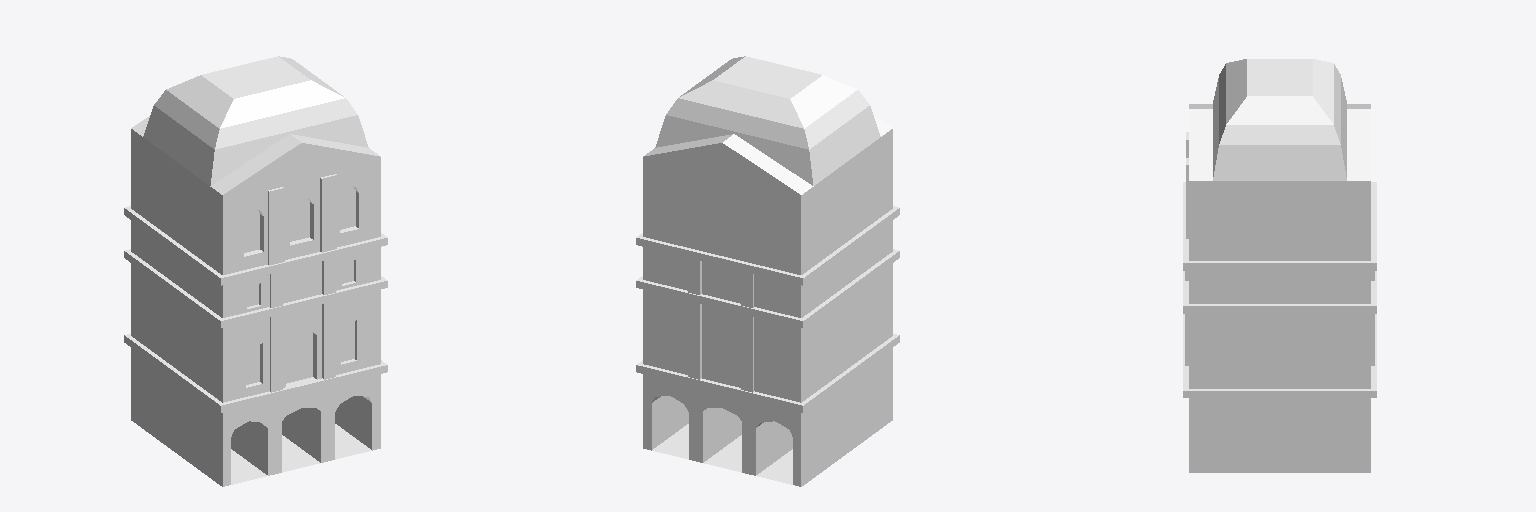
The model's file is Louvre_upper_part.obj.
3 views of the same model, side by side, from view 1: azimuth 30°, elevation 25°; view 2: azimuth 150°, elevation 25°; view 3: azimuth 270°, elevation 25° (orthographic).
Parts seen in each view (by area): view 1: Cube5; view 2: Cube5; view 3: Cube5.
Part boxes in pixels (x1,y1,x2,y2): Cube5: (124, 56, 387, 486); Cube5: (636, 56, 899, 486); Cube5: (1183, 59, 1376, 472).
Size of the model in its own units: 0.7259 by 1.48 by 0.7259.